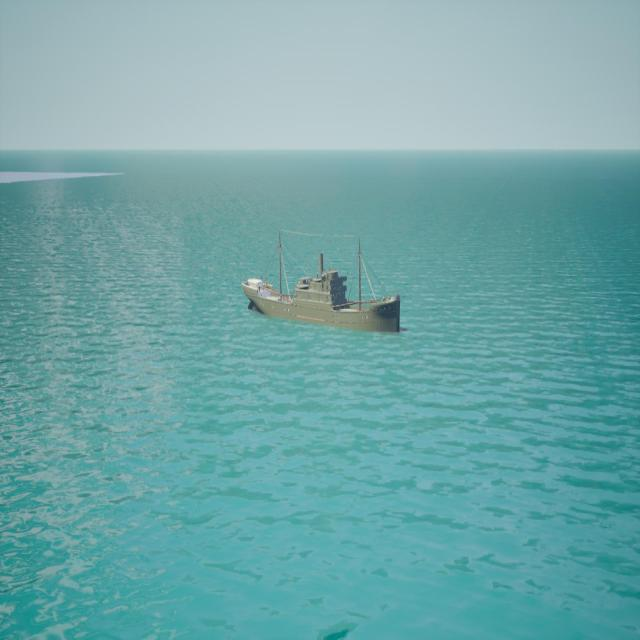fishing ship: (244, 235, 401, 336)
